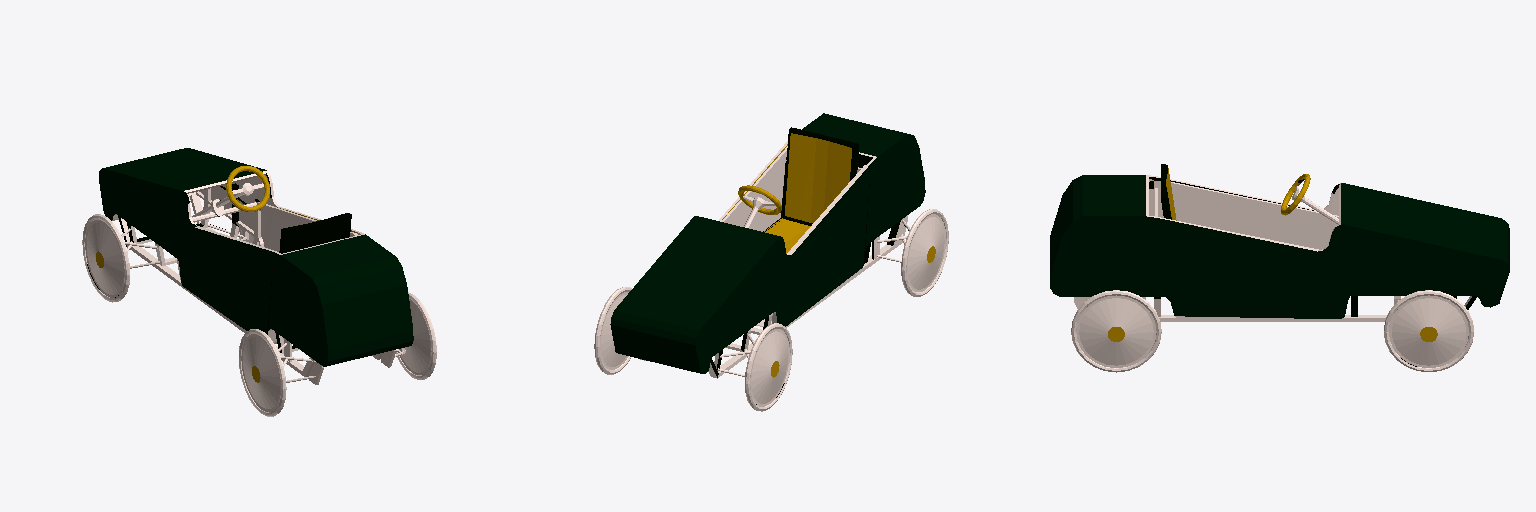
File: UdeSSavon8.obj
3 views of the same model, side by side, from view 1: azimuth 30°, elevation 25°; view 2: azimuth 150°, elevation 25°; view 3: azimuth 270°, elevation 25° (orthographic).
Parts seen in each view (by area): view 1: Corp_Soapbox_Car.001, Soapbox_Car; view 2: Corp_Soapbox_Car.001, Soapbox_Car; view 3: Corp_Soapbox_Car.001, Soapbox_Car.
Part boxes in pixels (x1,y1,x2,y2): Corp_Soapbox_Car.001: (99, 148, 413, 366); Soapbox_Car: (82, 166, 436, 416); Corp_Soapbox_Car.001: (610, 113, 924, 373); Soapbox_Car: (594, 127, 948, 411); Corp_Soapbox_Car.001: (1050, 175, 1509, 318); Soapbox_Car: (1050, 164, 1476, 372).
Size of the model in its own units: 0.7731 by 0.7216 by 1.89.